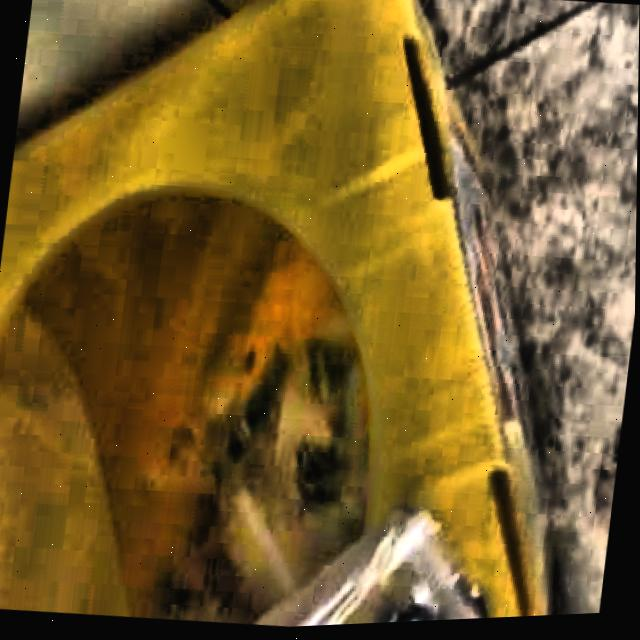plastic: (257, 512, 488, 629)
